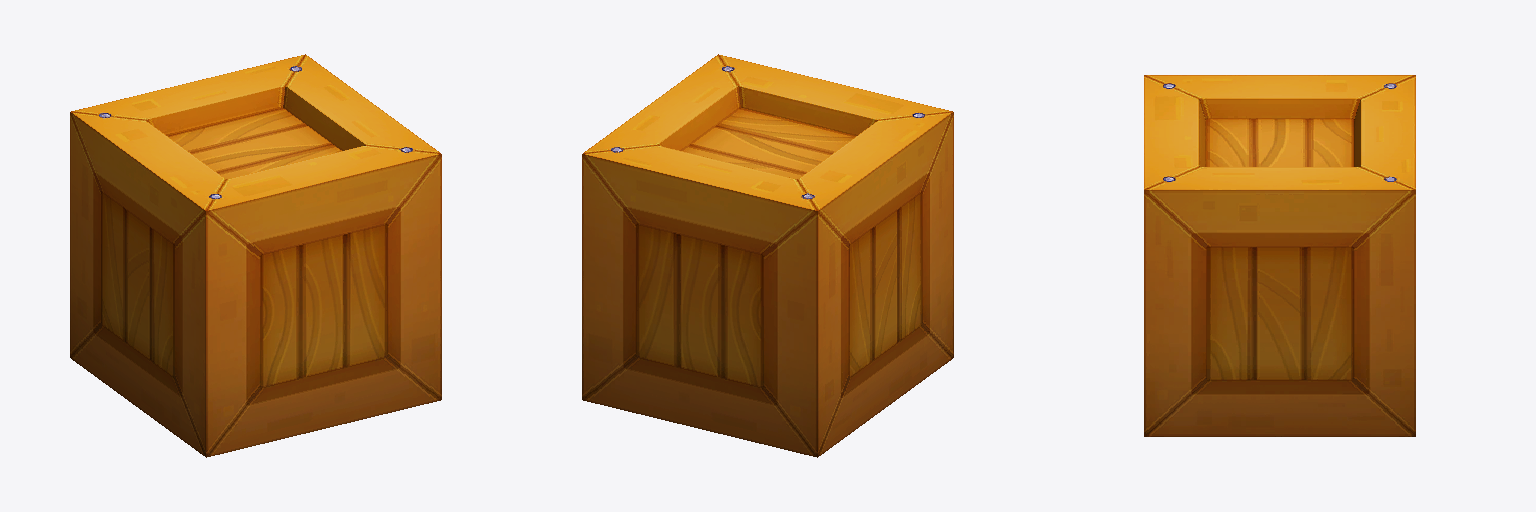
The picture shows the model from 3 angles: view 1: azimuth 30°, elevation 25°; view 2: azimuth 150°, elevation 25°; view 3: azimuth 270°, elevation 25°; orthographic projection.
Visible parts, largest first — view 1: env_block_crate__1__Scene; view 2: env_block_crate__1__Scene; view 3: env_block_crate__1__Scene.
Part boxes in pixels (x1,y1,x2,y2): env_block_crate__1__Scene: (70,54,441,457); env_block_crate__1__Scene: (582,54,953,457); env_block_crate__1__Scene: (1144,75,1415,436).
Bounding box in the file's own units: 2 × 2 × 2.
1 materials, 1 textured.